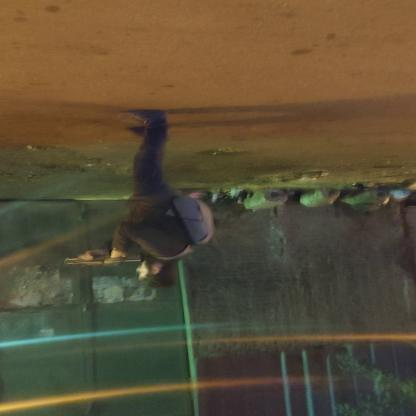long weapon: (53, 249, 143, 273)
